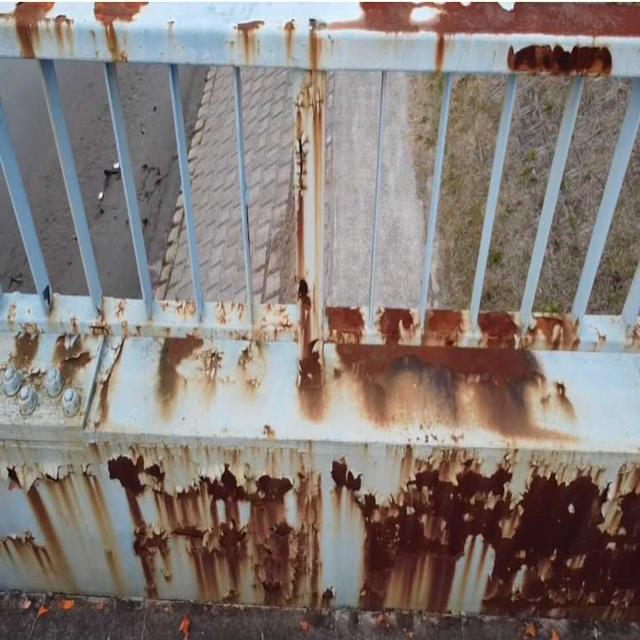corrosion: (21, 18, 630, 616)
